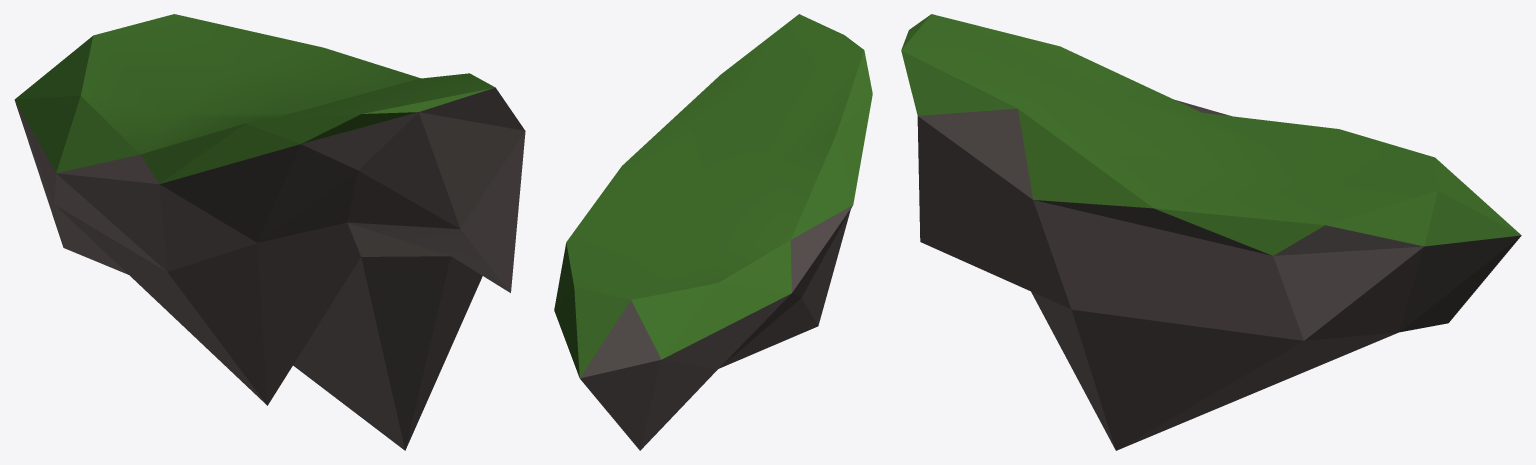
File: forestramp.fbx
3 renders of one model, left to right at view 1: azimuth 30°, elevation 25°; view 2: azimuth 150°, elevation 25°; view 3: azimuth 270°, elevation 25°, orthographic. The views are drawn at different scales.
Parts seen in each view (by area): view 1: Icosphere; view 2: Icosphere; view 3: Icosphere.
Boxes of the visible parts, bbox=[...] form: Icosphere: bbox=[14, 14, 525, 450]; Icosphere: bbox=[554, 14, 872, 450]; Icosphere: bbox=[901, 14, 1521, 450].
Size of the model in its own units: 374 by 516 by 755.
